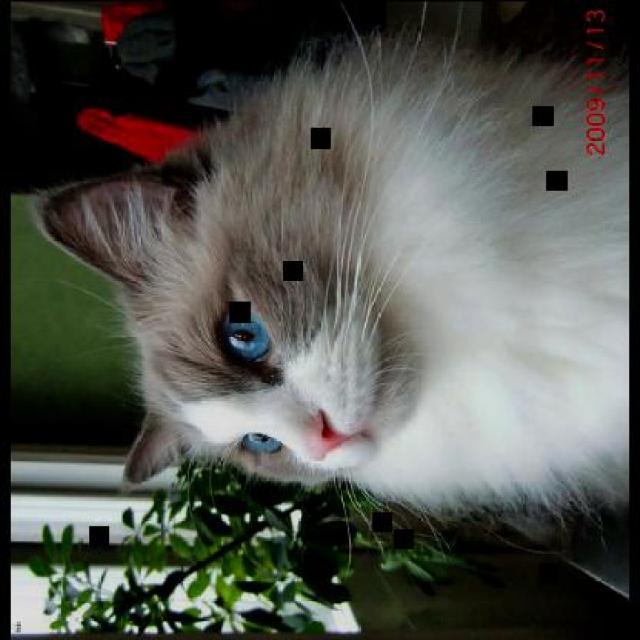unauthorized: (29, 0, 629, 554)
